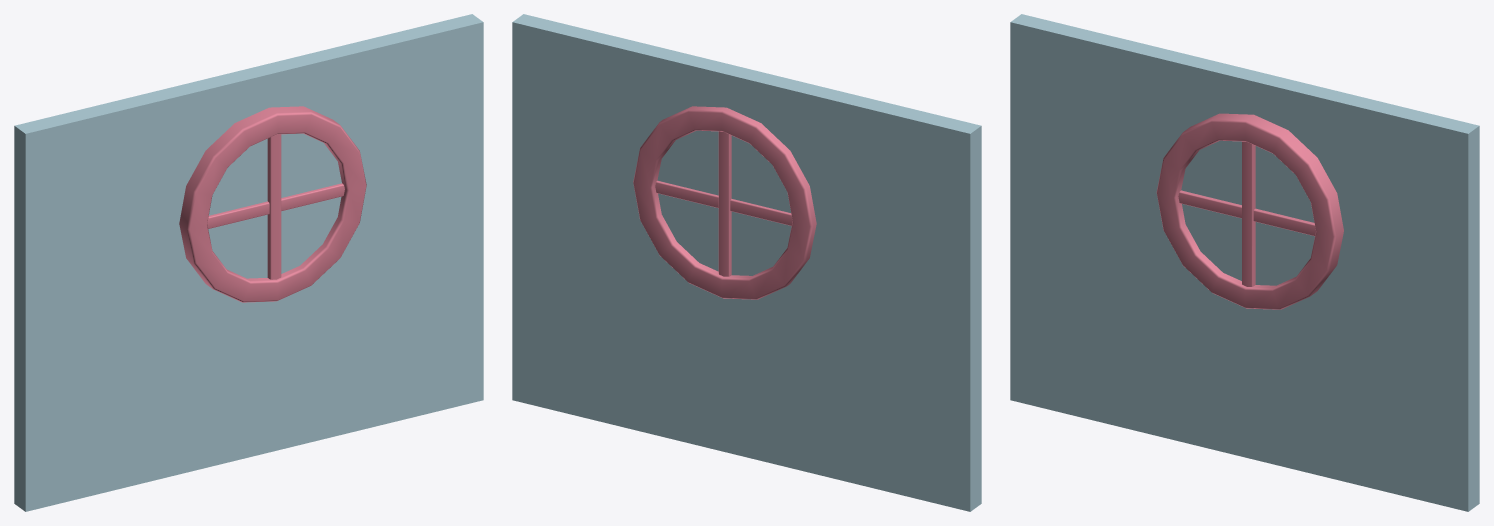
File: Wall_4.glb
3 views of the same model, side by side, from view 1: azimuth 30°, elevation 25°; view 2: azimuth 150°, elevation 25°; view 3: azimuth 330°, elevation 25° (orthographic).
Parts seen in each view (by area): view 1: Wall_4; view 2: Wall_4; view 3: Wall_4.
Part boxes in pixels (x1,y1,x2,y2): Wall_4: [14, 14, 483, 511]; Wall_4: [512, 14, 981, 511]; Wall_4: [1010, 14, 1479, 511].
Size of the model in its own units: 4.8 by 3.78 by 0.4516.
Materials: 2 (2 with a texture image).
